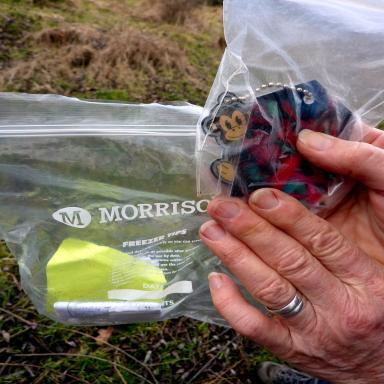plasticbag: (0, 88, 254, 330), (193, 0, 383, 220)
